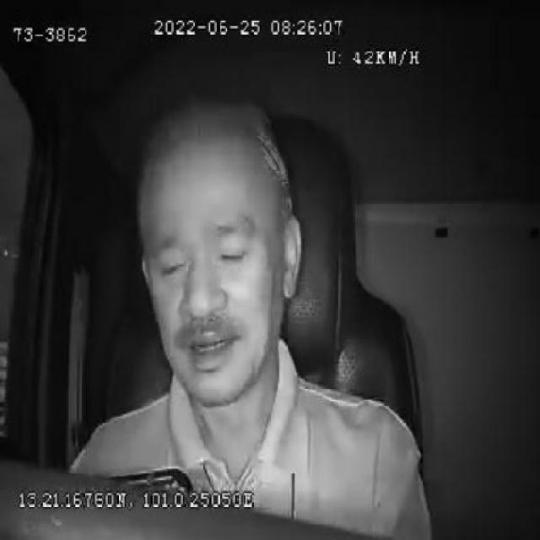phone: (87, 469, 198, 500)
